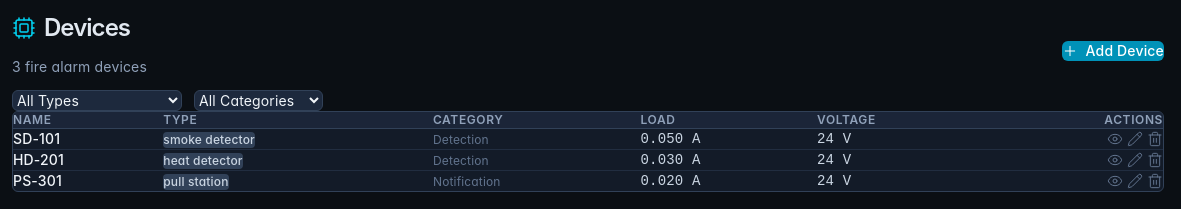
Test case: DevicesPage › shows clear filters button when filter is active
The width and height of the screenshot is (1181, 209).
Check: the text "SD-101" is shown, box [13,130,60,147]
# Apply a filter
Select "pull station" in the dropdown named "Filter by type" at (97, 101), box [12,90,182,111]
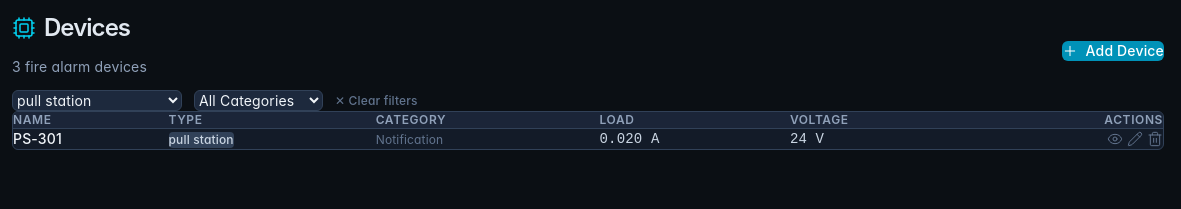
Check: the button "✕ Clear filters" is shown, box [335,93,418,109]
